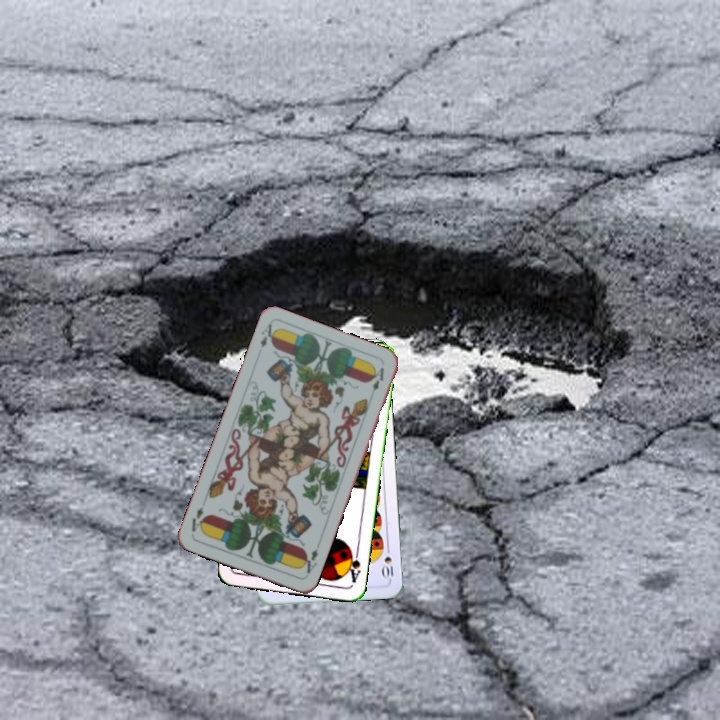EA: (297, 545, 321, 579), (256, 319, 279, 350)
S10: (379, 542, 396, 581)
SA: (343, 544, 363, 585)
